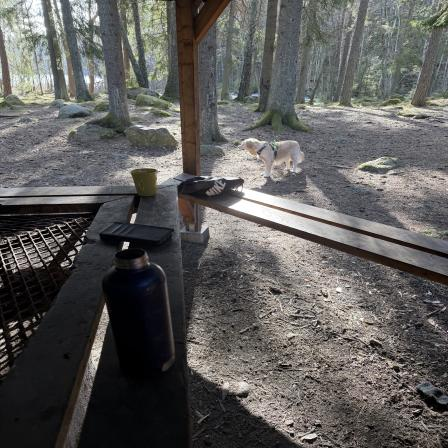blue_bottle: (99, 249, 180, 372)
phone: (100, 221, 178, 246)
yellow_cup: (130, 169, 161, 197)
